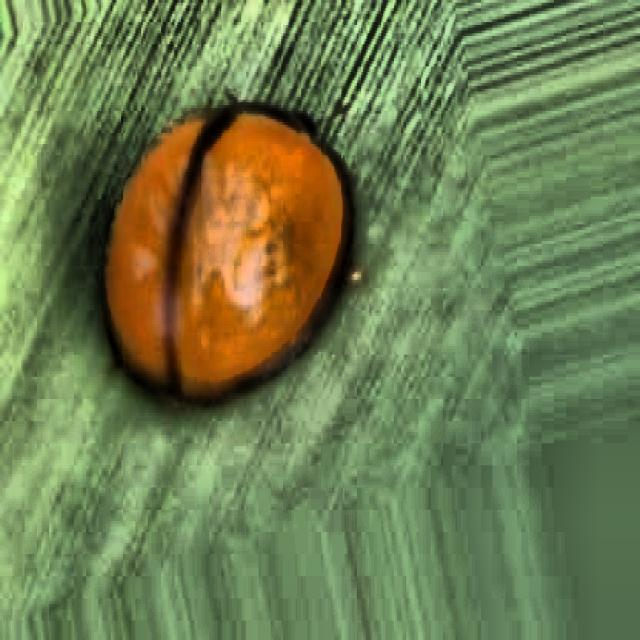Ladybug: (50, 1, 398, 502)
